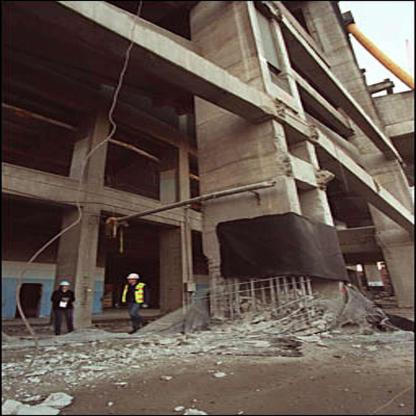rebar: (14, 0, 152, 385), (206, 273, 330, 339)
